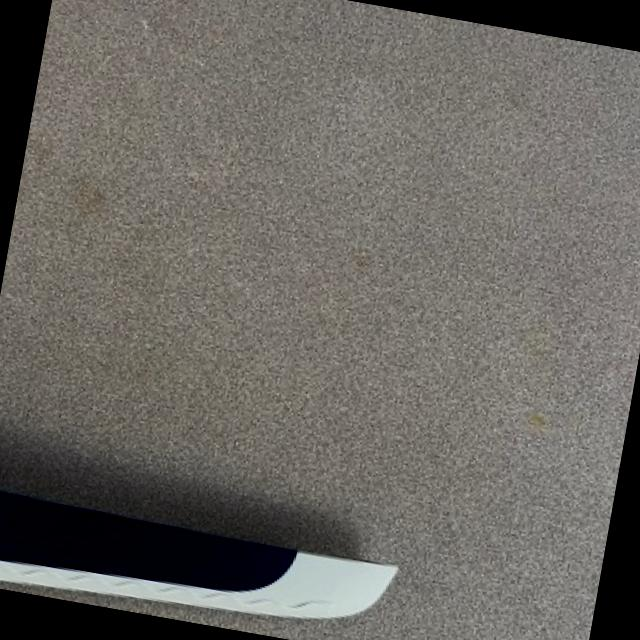healthy: (0, 490, 394, 616)
